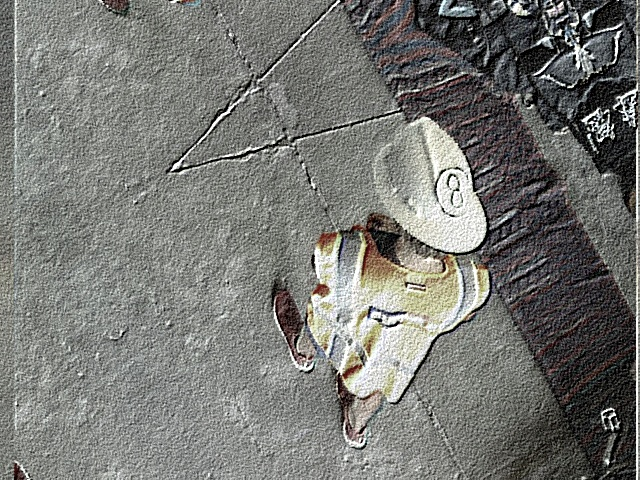eight: (427, 159, 484, 221)
